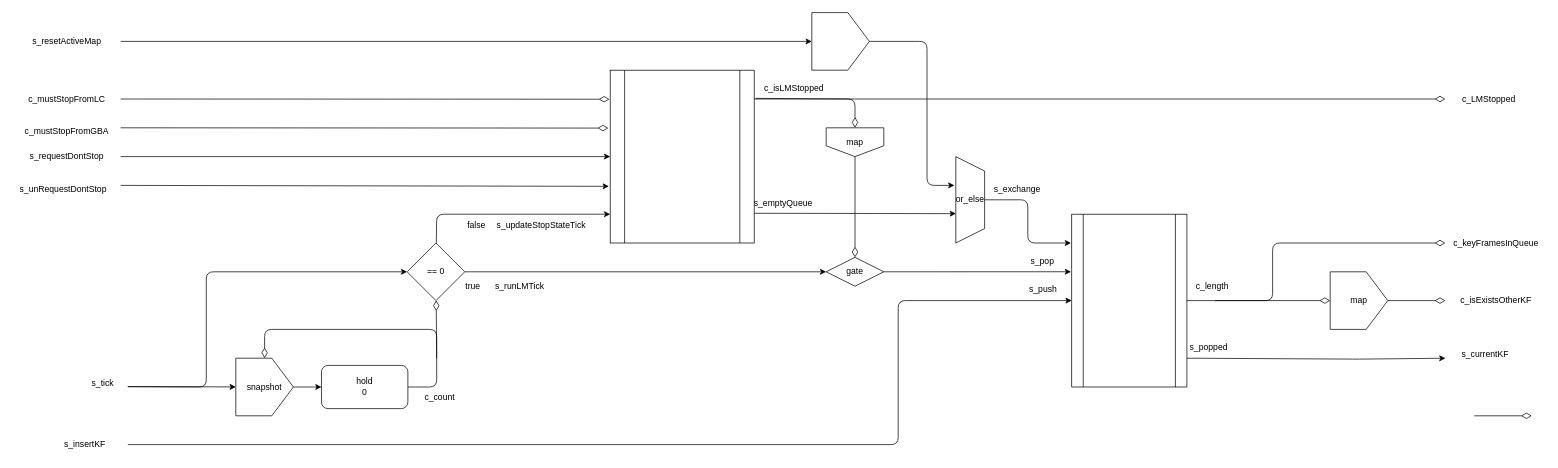
This 1558x468 diagram has some shape labels left out. Here are the shapes that lost their labels. From the top down, the centre of each, then its label:
the point at 840,41: map_to empty list
the point at 681,156: StopManager
the point at 1129,300: Queue
